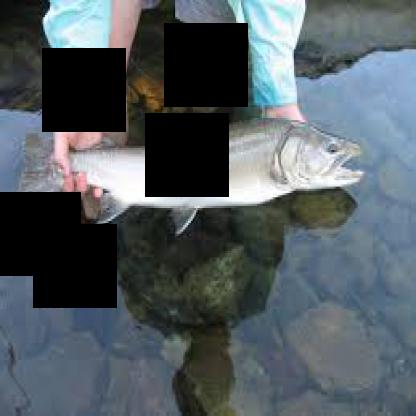fish: (10, 113, 364, 228)
